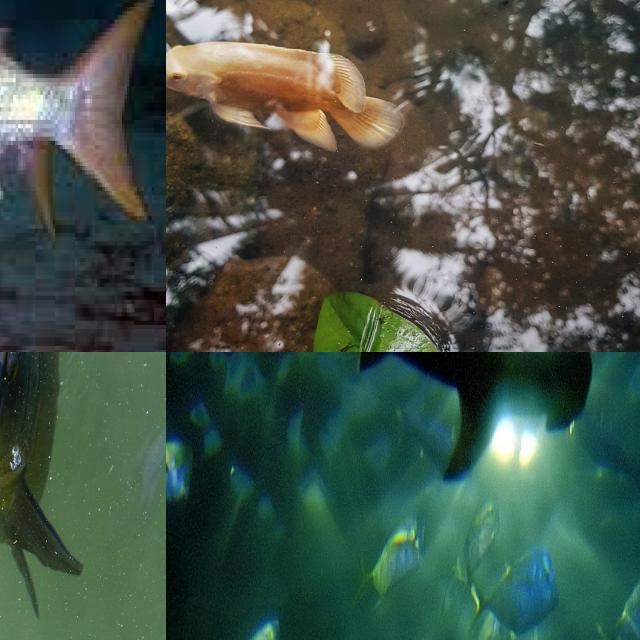fish: (171, 13, 464, 334), (0, 0, 166, 352), (0, 352, 156, 640), (166, 429, 192, 524)
